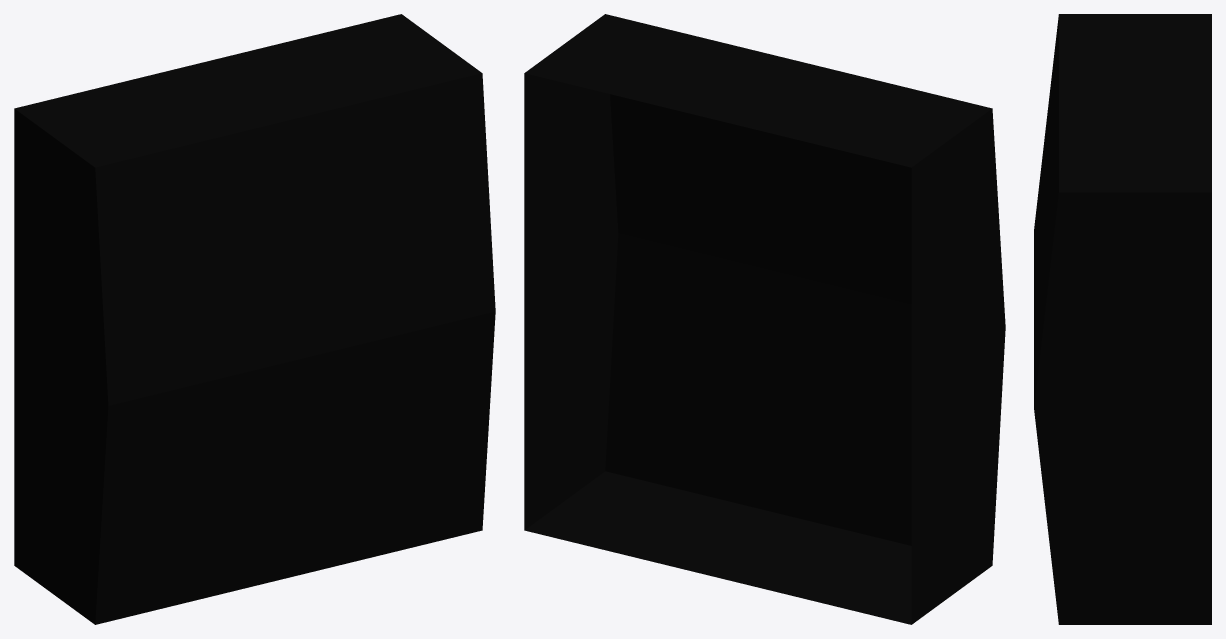
File: hard_cardscanner.fbx
The picture shows the model from 3 angles, left to right: view 1: azimuth 30°, elevation 25°; view 2: azimuth 150°, elevation 25°; view 3: azimuth 270°, elevation 25°; orthographic projection. The views are drawn at different scales.
Parts seen in each view (by area): view 1: hard_cardscanner; view 2: hard_cardscanner; view 3: hard_cardscanner.
Boxes of the visible parts, box(x1,y1,x2,y2) form: hard_cardscanner: box(14, 14, 495, 624); hard_cardscanner: box(524, 14, 1005, 624); hard_cardscanner: box(1034, 14, 1211, 624).
Bounding box in the file's own units: 0.636 × 0.7175 × 0.2677.
